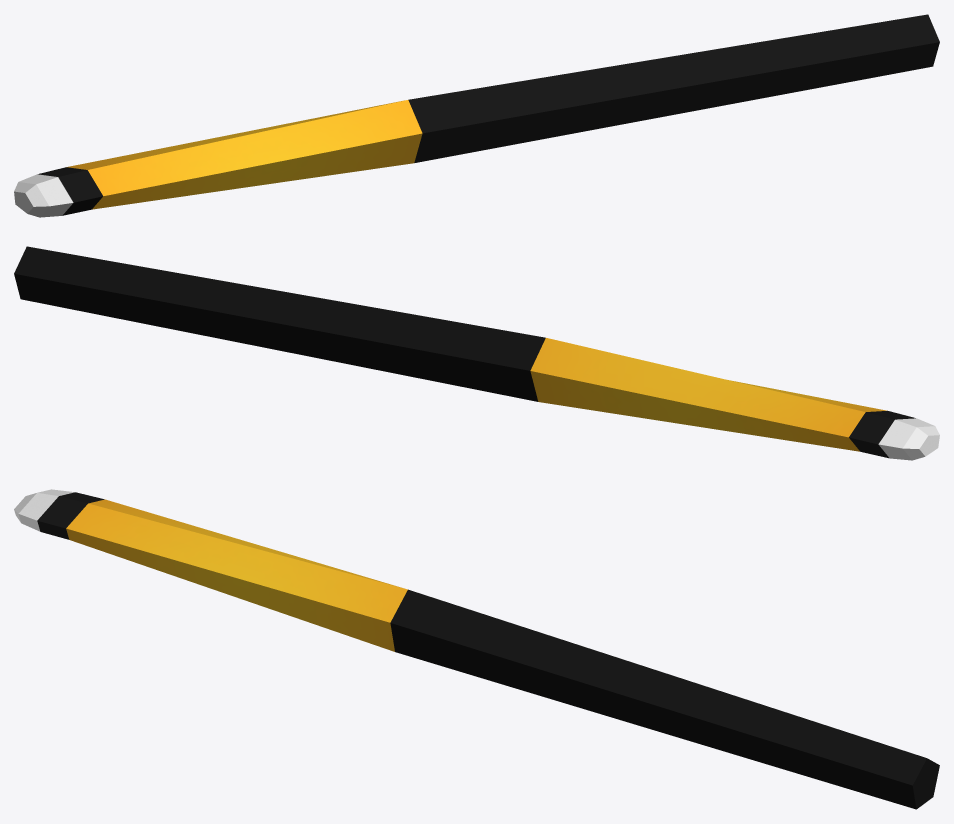
Rendered from pennello2.fbx.
3 renders of one model, top to bottom at view 1: azimuth 30°, elevation 25°; view 2: azimuth 150°, elevation 25°; view 3: azimuth 330°, elevation 25°, orthographic.
Visible parts, largest first — view 1: pennello2; view 2: pennello2; view 3: pennello2.
Boxes of the visible parts, x1,y1,x2,y2 form: pennello2: (14,14,939,217); pennello2: (14,246,939,460); pennello2: (14,489,939,809).
Size of the model in its own units: 0.1409 by 0.0134 by 0.0103.
